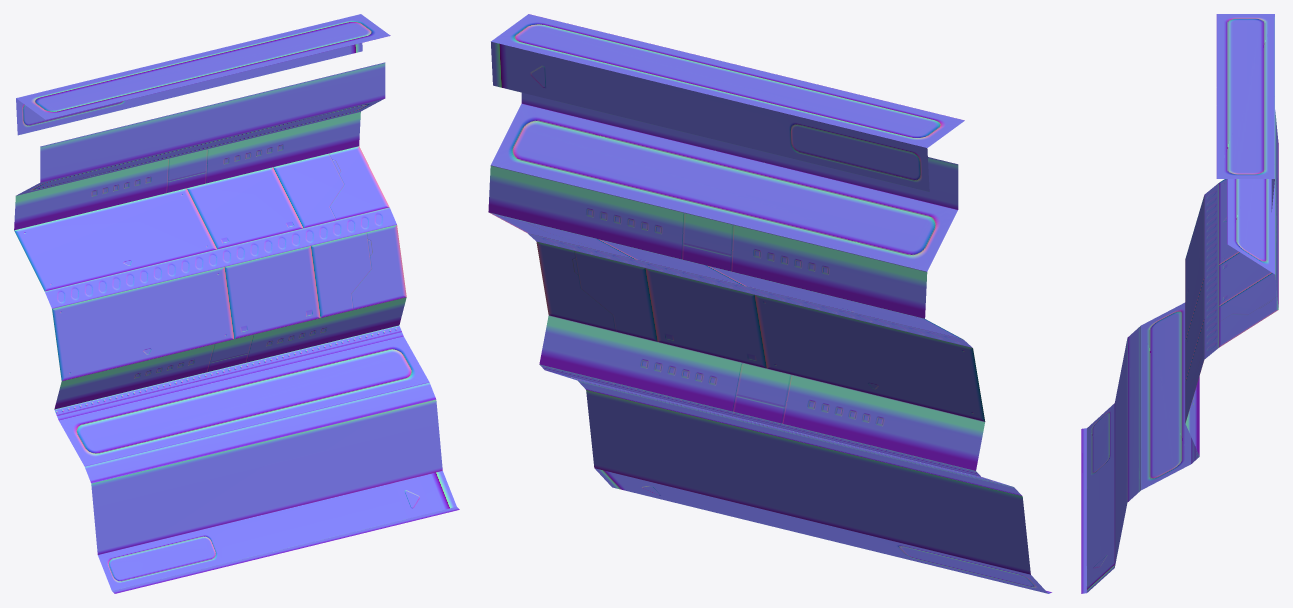
The model's file is Wall01.fbx.
The picture shows the model from 3 angles, left to right: view 1: azimuth 30°, elevation 25°; view 2: azimuth 150°, elevation 25°; view 3: azimuth 270°, elevation 25°; orthographic projection. The views are drawn at different scales.
Parts seen in each view (by area): view 1: Plane.020; view 2: Plane.020; view 3: Plane.020.
Boxes of the visible parts, x1,y1,x2,y2 form: Plane.020: [14, 14, 459, 593]; Plane.020: [488, 14, 1051, 593]; Plane.020: [1081, 14, 1278, 593].
Bounding box in the file's own units: 200 × 234 × 101.
1 material, 1 textured.
